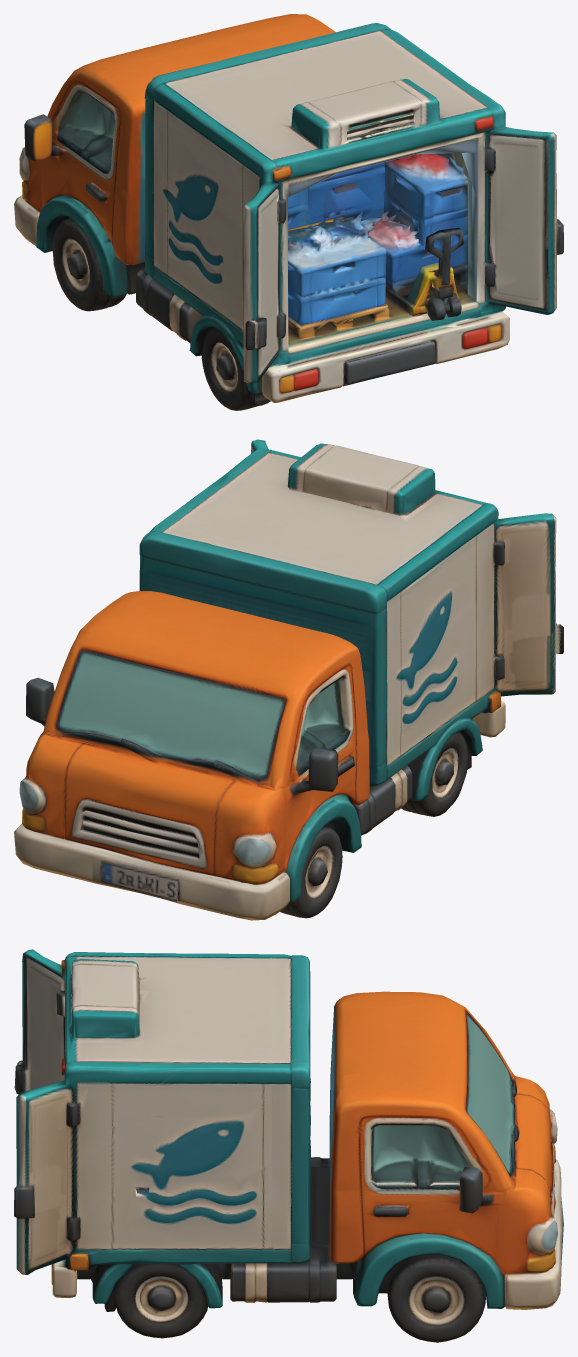
Rendered from FishDeliveryTruck.glb.
3 renders of one model, top to bottom at view 1: azimuth 30°, elevation 25°; view 2: azimuth 150°, elevation 25°; view 3: azimuth 270°, elevation 25°, orthographic.
Visible parts, largest first — view 1: tripo_node_729a35ce-0622-41e8-bbaa-a001508ad1f3; view 2: tripo_node_729a35ce-0622-41e8-bbaa-a001508ad1f3; view 3: tripo_node_729a35ce-0622-41e8-bbaa-a001508ad1f3.
Boxes of the visible parts, bbox=[...] form: tripo_node_729a35ce-0622-41e8-bbaa-a001508ad1f3: bbox=[14, 14, 563, 410]; tripo_node_729a35ce-0622-41e8-bbaa-a001508ad1f3: bbox=[14, 439, 563, 920]; tripo_node_729a35ce-0622-41e8-bbaa-a001508ad1f3: bbox=[14, 949, 563, 1342].
Size of the model in its own units: 0.6485 by 0.5921 by 0.979.
Materials: 1 (1 with a texture image).
